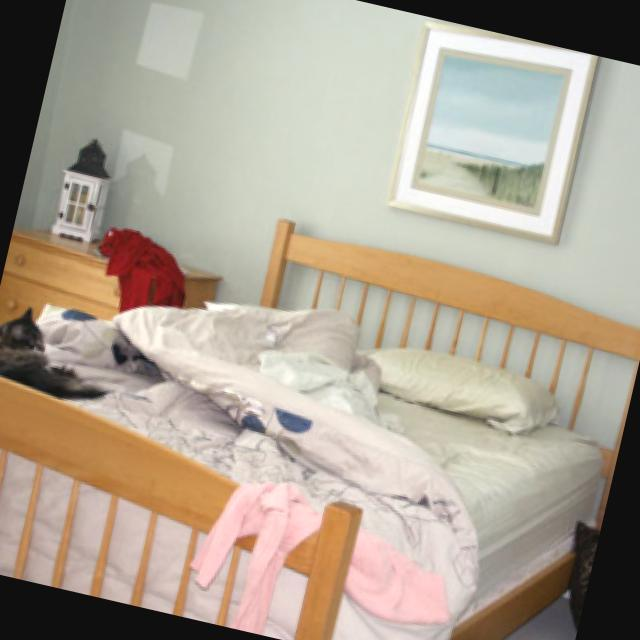mess: (0, 258, 574, 640), (8, 145, 210, 307)
